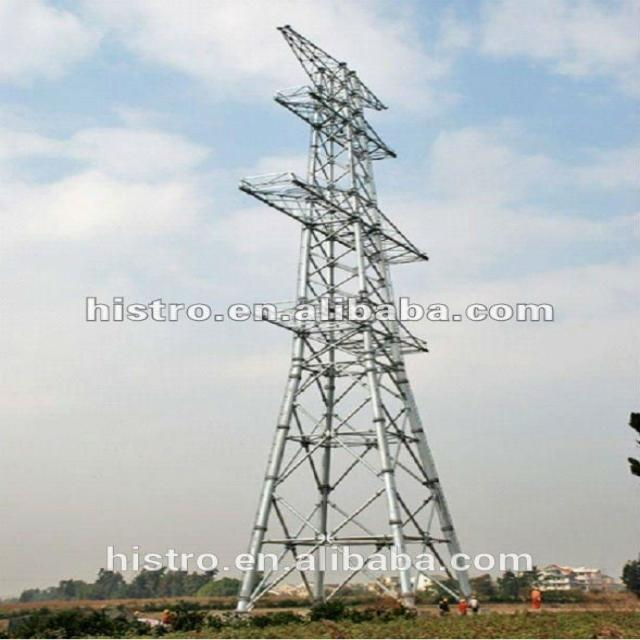non-critical vegetation: (217, 9, 488, 602)
